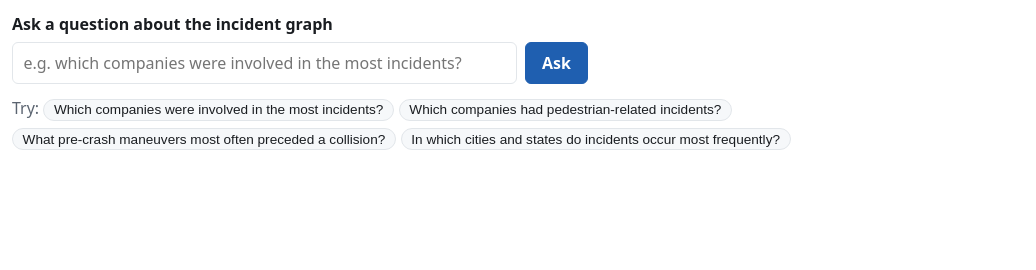
Test case: KgAsk › renders the graph-down state distinctly from an ordinary fallback
Type "anything" into the field labelled "Ask a question about the incident graph" at (265, 63), box [12, 42, 517, 84]
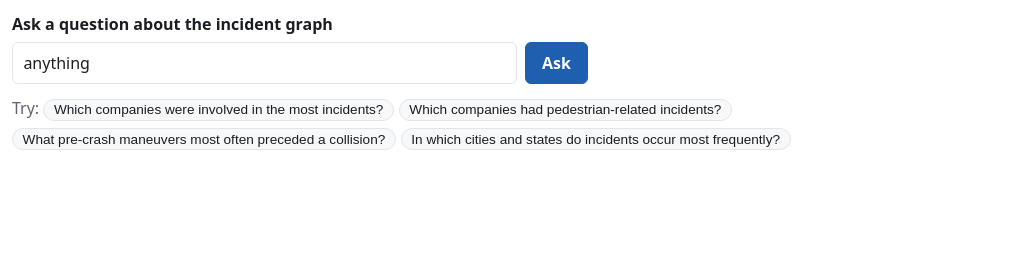
Submit the form, box [12, 13, 588, 84]
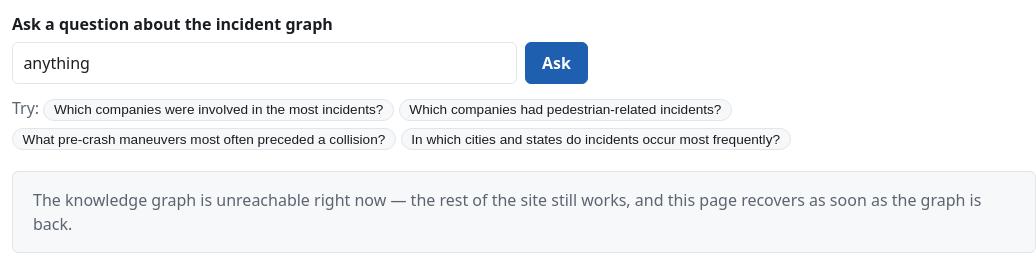
Result: the text "knowledge graph is unreachable" is shown at [33, 189, 981, 235]
